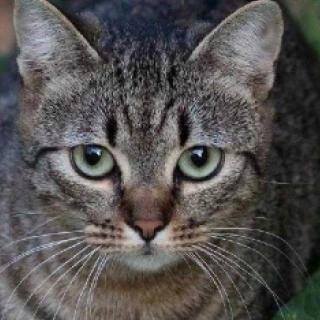cat: (3, 0, 288, 281)
nose: (122, 207, 178, 248)
